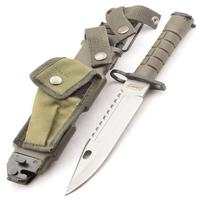knife: (62, 4, 185, 199)
